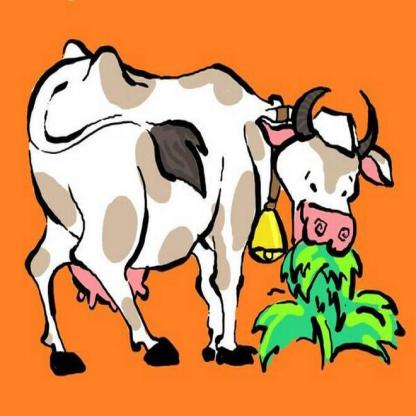cow: (25, 40, 393, 376)
